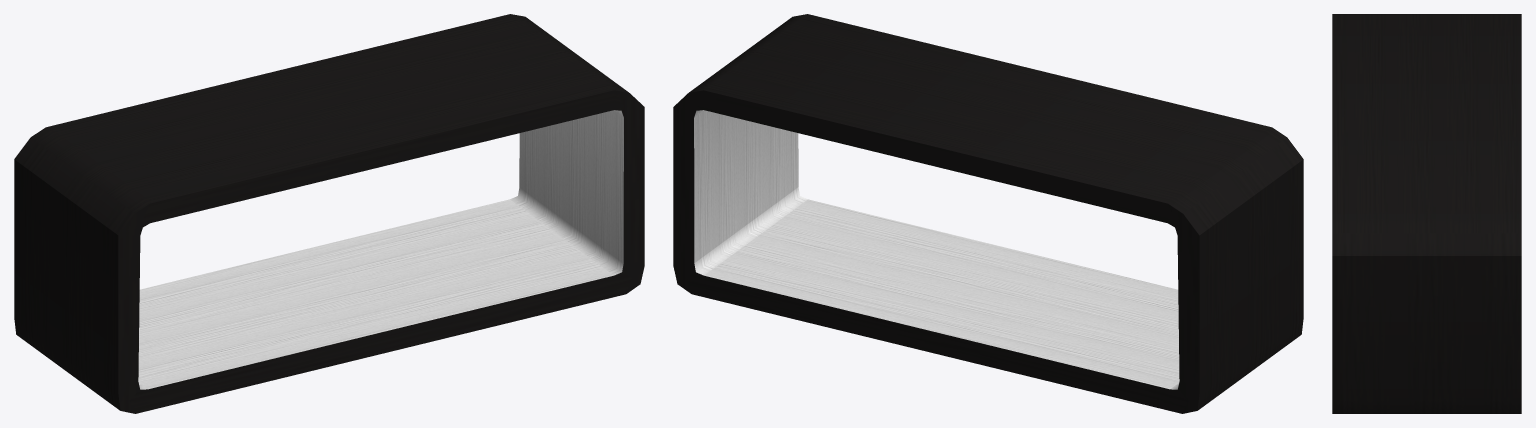
File: Wall_Shelf_01.FBX
3 renders of one model, left to right at view 1: azimuth 30°, elevation 25°; view 2: azimuth 150°, elevation 25°; view 3: azimuth 270°, elevation 25°, orthographic. The views are drawn at different scales.
Parts seen in each view (by area): view 1: Wall_Shelf; view 2: Wall_Shelf; view 3: Wall_Shelf.
Part boxes in pixels (x1,y1,x2,y2): Wall_Shelf: [14, 14, 644, 413]; Wall_Shelf: [673, 14, 1303, 413]; Wall_Shelf: [1332, 14, 1521, 413].
Size of the model in its own units: 160 by 60.21 by 54.97.
